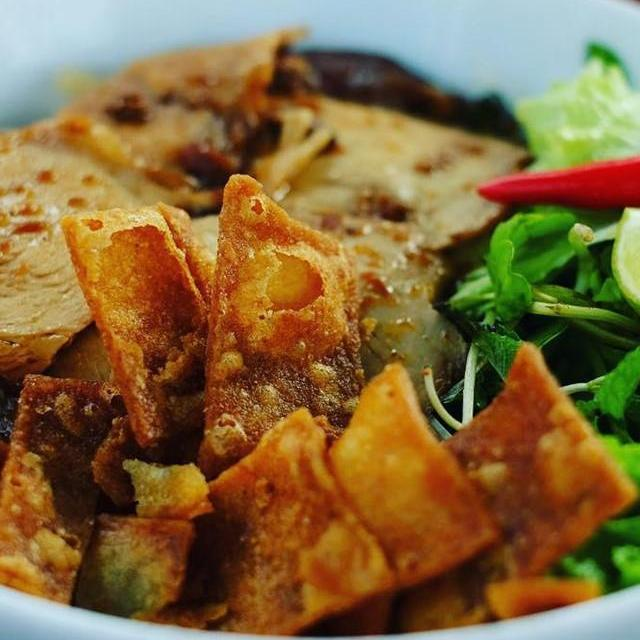banh da: (400, 337, 640, 640), (298, 355, 507, 633), (190, 167, 374, 478), (189, 401, 402, 640), (56, 197, 227, 461), (0, 366, 141, 612), (64, 455, 233, 633), (0, 422, 27, 580)
mi quang: (0, 0, 640, 640)
thit heo: (148, 91, 536, 410), (0, 108, 195, 389)
